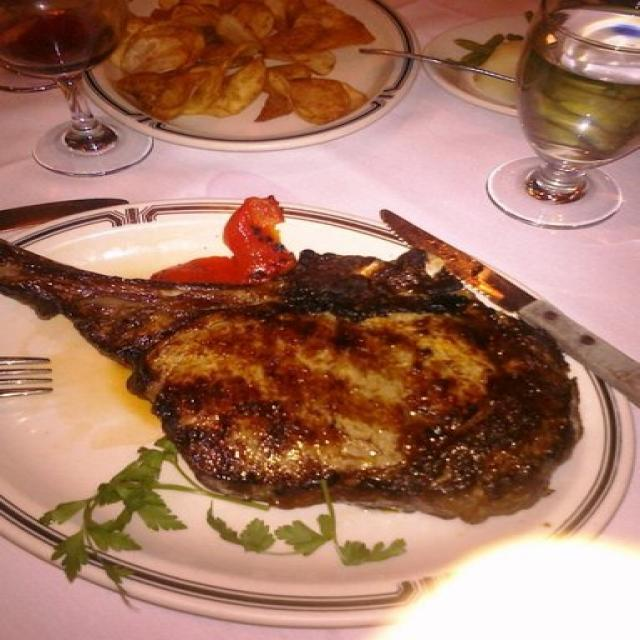Steak: (27, 215, 569, 501)
